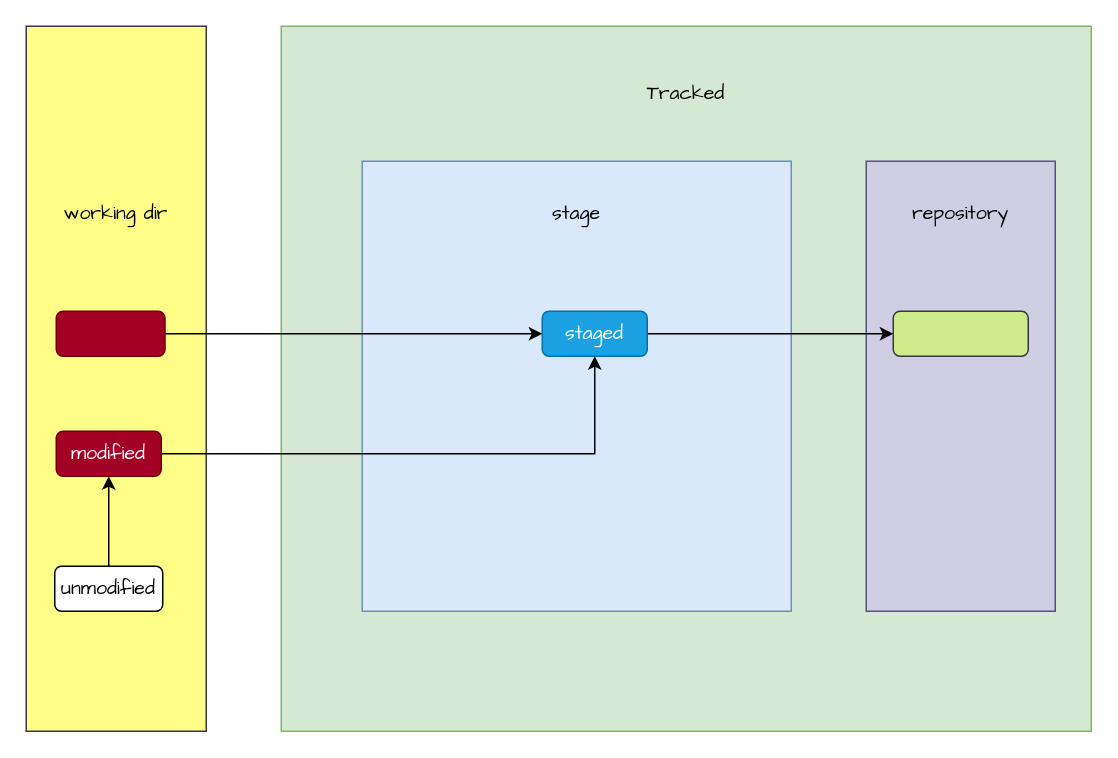
The diagram is 1118 pixels wide and 758 high, and some of its shapes have lost their labels. Each missing label, with the centre of its shape:
"commited" belongs at point (960, 333).
"untracked" belongs at point (110, 333).
